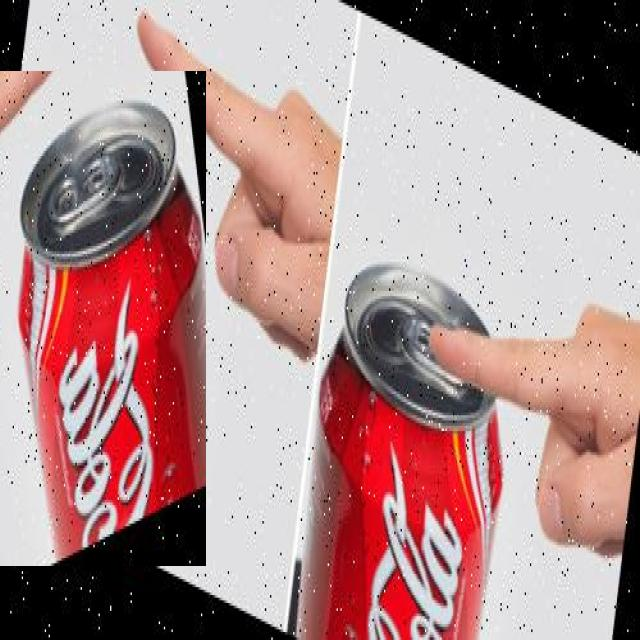coca-cola: (0, 71, 206, 566), (288, 225, 524, 640)
